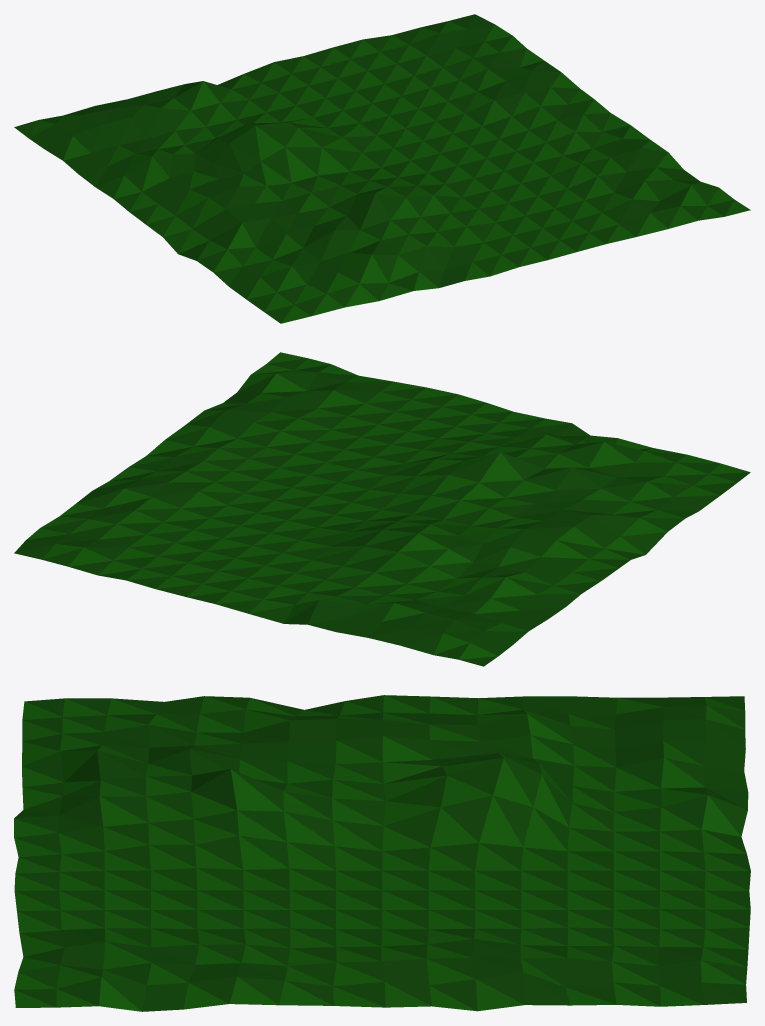
The model's file is grass land.fbx.
3 renders of one model, top to bottom at view 1: azimuth 30°, elevation 25°; view 2: azimuth 150°, elevation 25°; view 3: azimuth 270°, elevation 25°, orthographic. The views are drawn at different scales.
Visible parts, largest first — view 1: Cube.346; view 2: Cube.346; view 3: Cube.346.
Part boxes in pixels (x1,y1,x2,y2): Cube.346: (14, 14, 750, 323); Cube.346: (14, 352, 750, 666); Cube.346: (14, 695, 750, 1011).
Bounding box in the file's own units: 147 × 11.92 × 147.
1 material, 1 textured.
